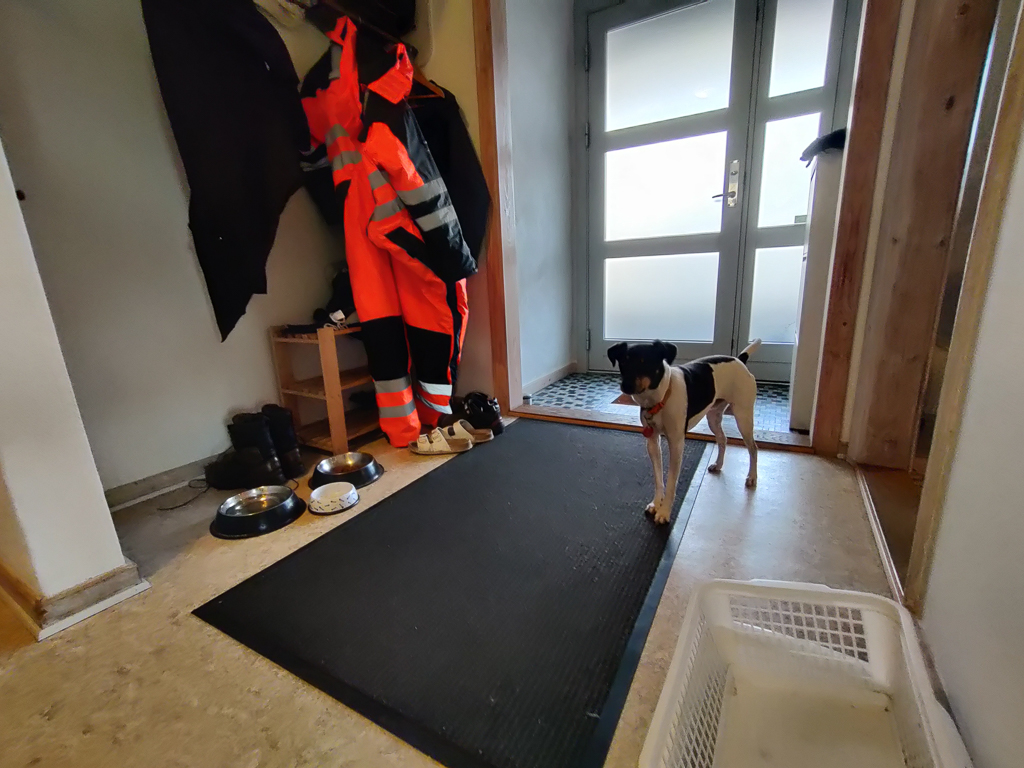Dog: (596, 327, 781, 538)
